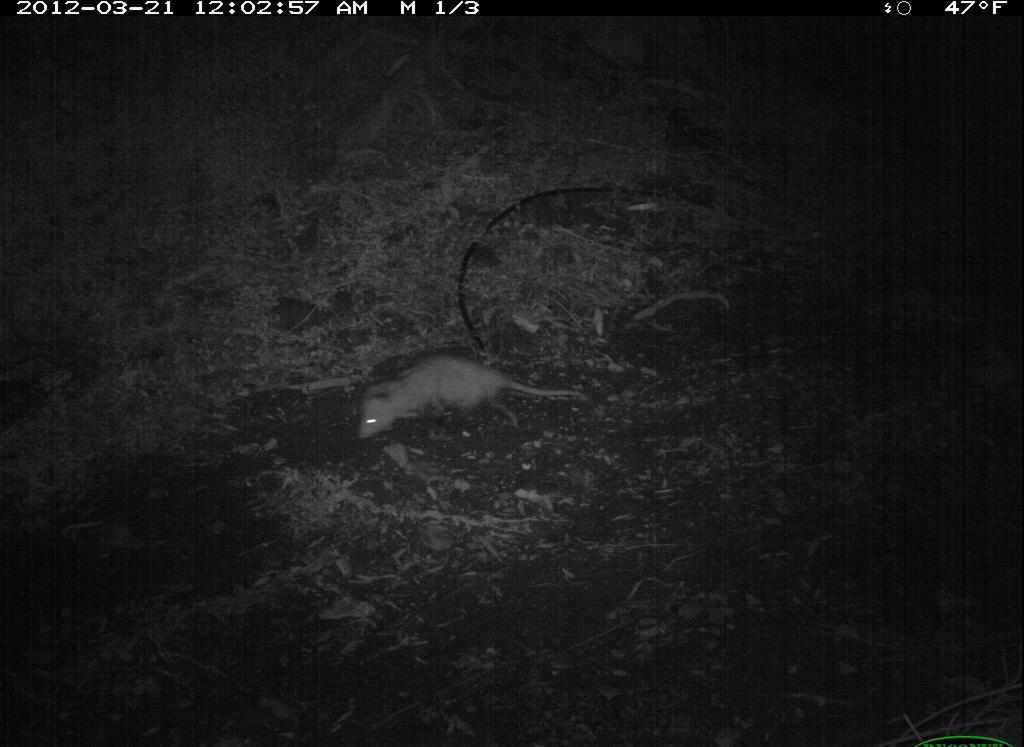opossum: (323, 331, 602, 463)
